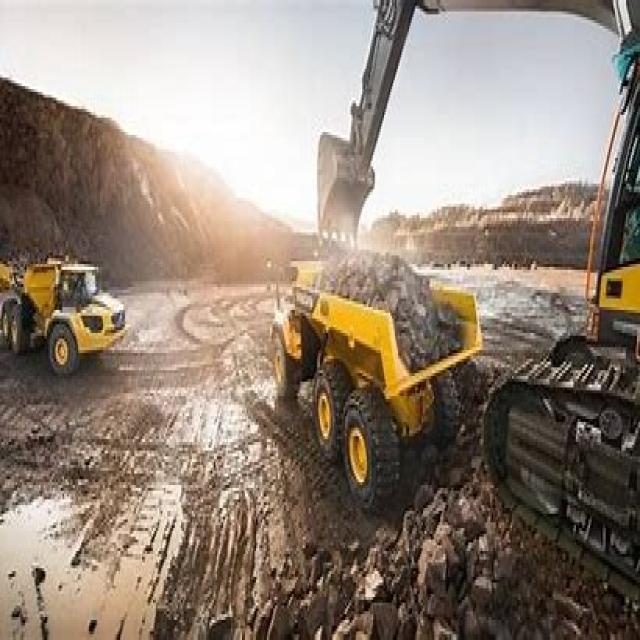dump_truck: (256, 241, 482, 517), (0, 246, 130, 384)
